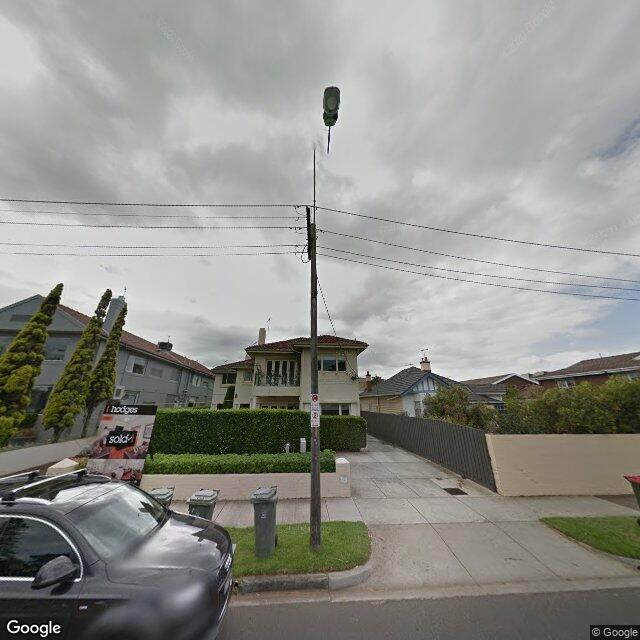crossarm: (289, 204, 312, 264)
streetlight: (313, 86, 341, 244)
timber-pole: (310, 223, 322, 548)
